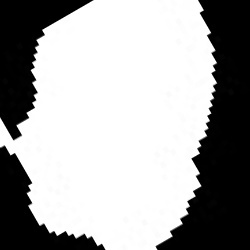spot: (0, 1, 218, 248)
